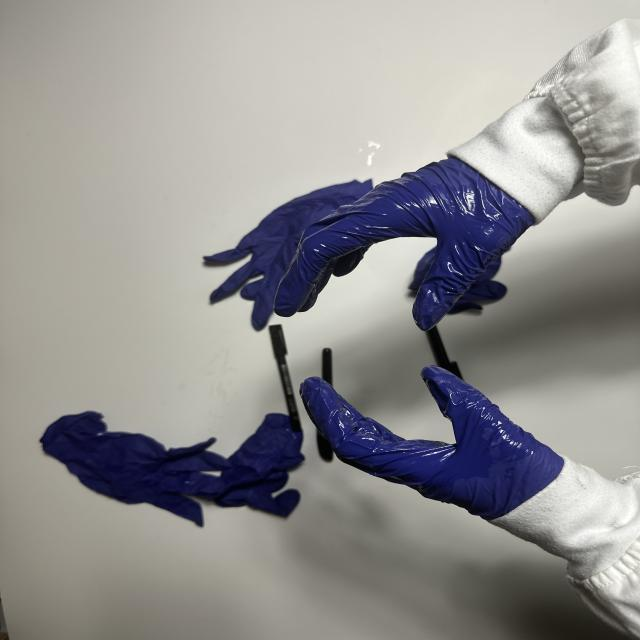gloves_contaminated: (274, 159, 534, 330), (300, 366, 564, 520)
